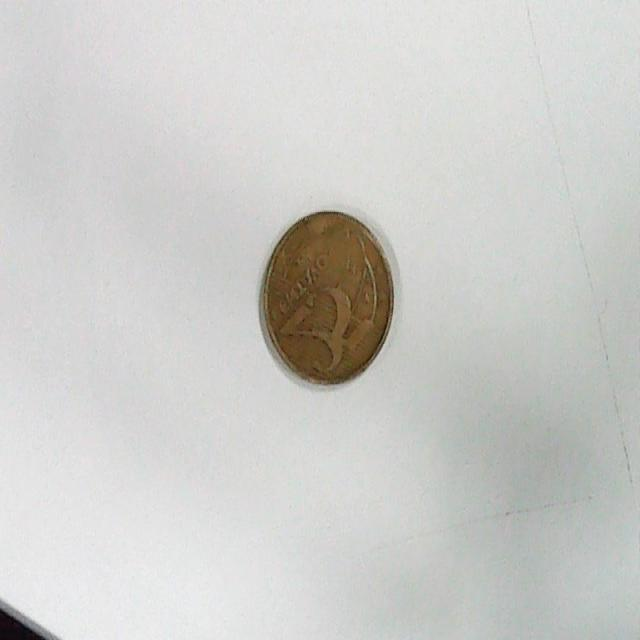25 cents: (256, 202, 398, 396)
